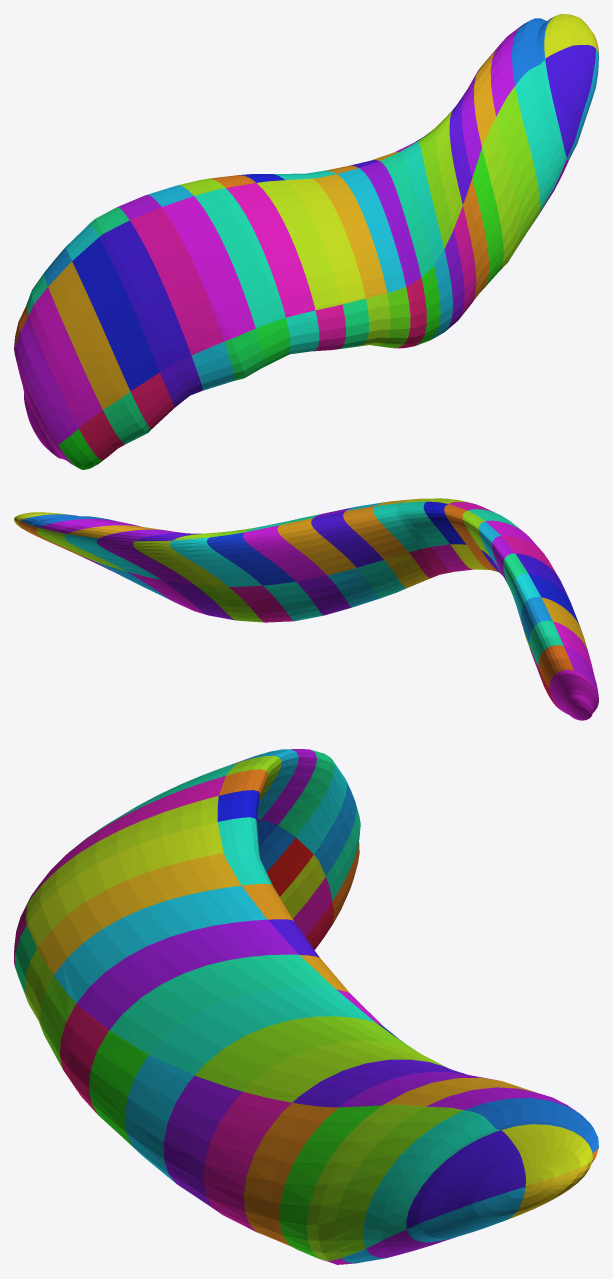
The model's file is pancreas-female-vu-v1.0.glb.
3 views of the same model, one above another, from view 1: azimuth 30°, elevation 25°; view 2: azimuth 150°, elevation 25°; view 3: azimuth 270°, elevation 25° (orthographic). The views are drawn at different scales.
Visible parts, largest first — view 1: world; view 2: world; view 3: world.
Boxes of the visible parts, x1,y1,x2,y2 form: world: [14, 14, 598, 469]; world: [14, 498, 598, 720]; world: [14, 749, 598, 1264].
Bounding box in the file's own units: 0.1566 × 0.0551 × 0.0822.
